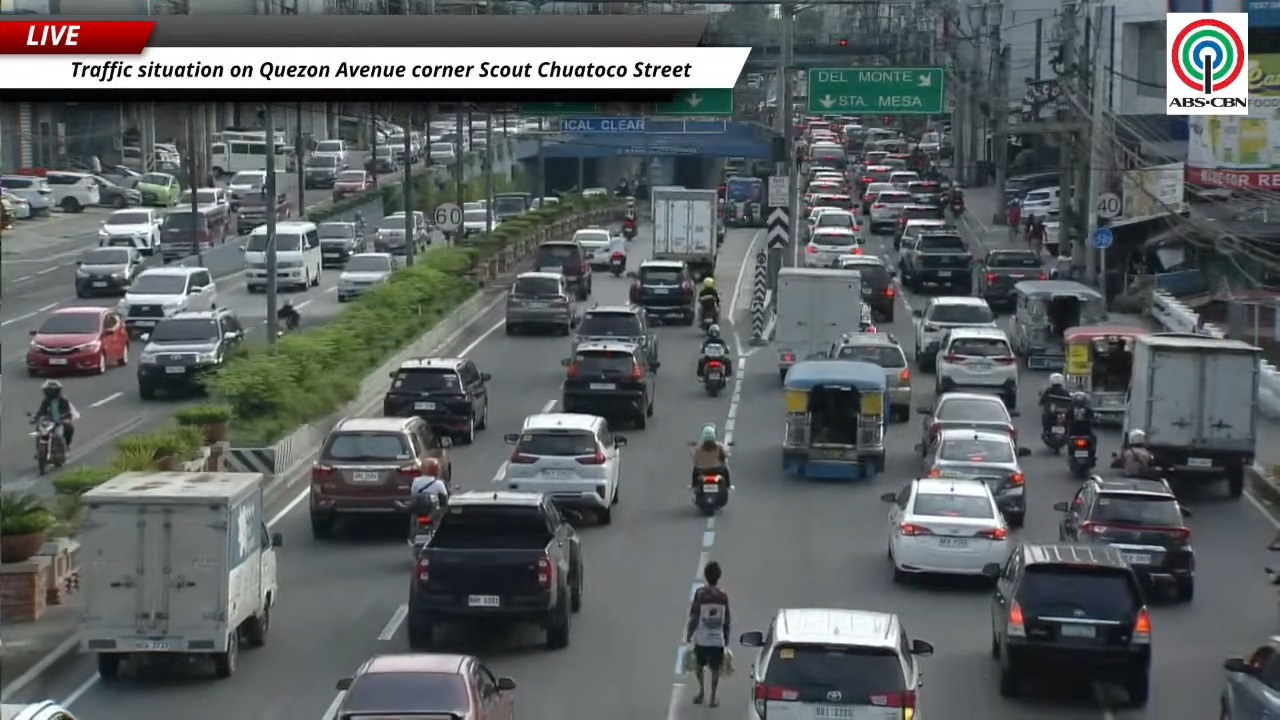bus: (211, 140, 266, 175)
car: (987, 543, 1151, 707), (739, 608, 933, 719), (1054, 475, 1194, 601), (309, 416, 451, 539), (501, 413, 626, 524), (881, 477, 1012, 581), (334, 653, 515, 719), (922, 428, 1030, 526), (136, 308, 245, 399), (382, 357, 490, 444), (561, 340, 657, 428), (829, 332, 911, 421), (26, 306, 128, 375), (117, 265, 216, 335), (935, 327, 1018, 407), (912, 296, 996, 370), (917, 392, 1017, 451), (572, 305, 658, 363), (1220, 636, 1279, 719), (899, 232, 973, 295), (506, 271, 575, 335), (628, 260, 695, 325), (973, 249, 1047, 306), (837, 253, 896, 322), (533, 239, 592, 300), (75, 247, 142, 297), (98, 207, 162, 254), (336, 253, 396, 302), (893, 219, 953, 263), (374, 211, 430, 255), (894, 196, 945, 242), (804, 227, 862, 267), (44, 171, 100, 212), (317, 221, 366, 267), (0, 175, 53, 216), (868, 189, 912, 233), (801, 204, 846, 239), (135, 173, 181, 207), (573, 227, 611, 268), (227, 170, 266, 208), (0, 700, 78, 719), (303, 154, 345, 188), (809, 207, 860, 232), (332, 169, 373, 200), (860, 181, 896, 216), (1022, 186, 1060, 219), (460, 208, 500, 238), (98, 164, 142, 188), (311, 139, 348, 167), (0, 189, 32, 219), (859, 163, 893, 191), (906, 180, 942, 203), (806, 193, 852, 211), (195, 187, 229, 211), (806, 175, 844, 194), (428, 141, 457, 164), (858, 303, 878, 333), (889, 171, 919, 189)
motorcycle: (28, 415, 65, 474), (407, 496, 442, 557), (692, 469, 730, 516), (694, 472, 728, 515), (702, 343, 726, 396), (1066, 436, 1095, 479), (408, 513, 434, 557), (1041, 410, 1066, 454), (699, 296, 719, 332), (609, 252, 625, 276), (622, 220, 637, 240), (950, 195, 964, 216), (716, 224, 726, 248)
truck: (79, 470, 282, 680), (405, 491, 582, 650), (1123, 333, 1261, 497), (773, 268, 861, 382), (651, 188, 719, 281), (236, 193, 291, 234)
